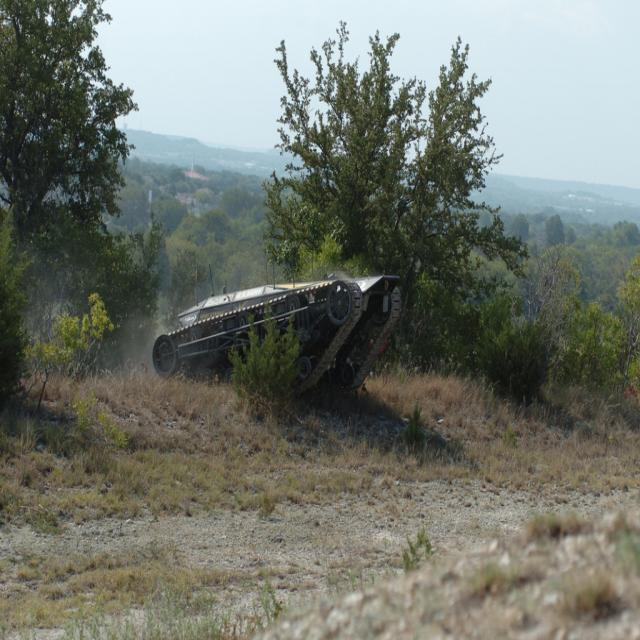tank: (151, 272, 401, 393)
